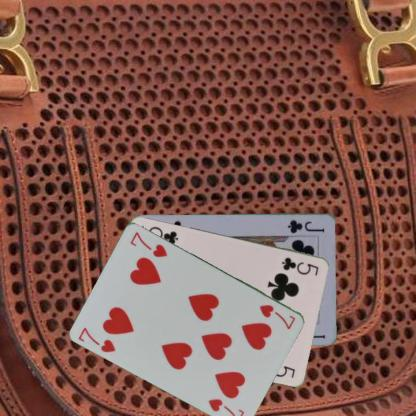5c: (279, 254, 320, 277)
7h: (76, 325, 117, 354), (257, 301, 297, 330)
Jc: (285, 217, 326, 235)
